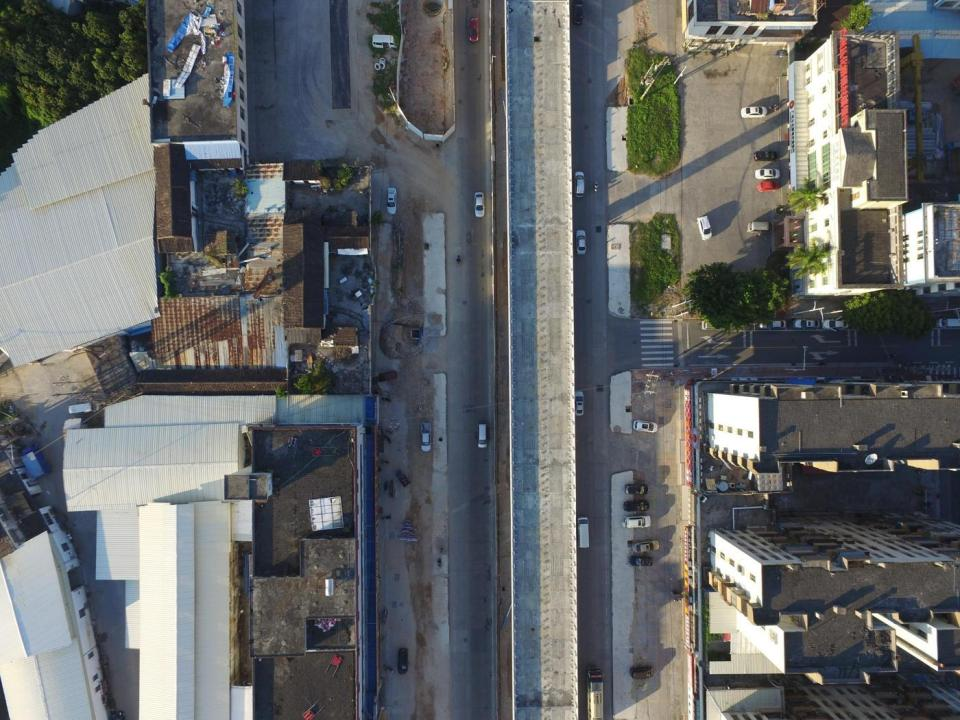car: (632, 418, 659, 435), (696, 214, 712, 241), (740, 104, 767, 119), (632, 538, 659, 553), (396, 647, 410, 675), (822, 317, 850, 331), (753, 166, 780, 180), (623, 514, 650, 528), (468, 14, 480, 44), (793, 317, 820, 330), (628, 554, 653, 568), (623, 500, 649, 513), (630, 666, 656, 679), (386, 188, 398, 216), (474, 191, 486, 218), (623, 483, 650, 495), (575, 230, 587, 255), (573, 390, 584, 417), (753, 150, 777, 162), (759, 319, 785, 330), (572, 0, 583, 25), (757, 180, 778, 193)
truck: (586, 664, 605, 720), (420, 420, 432, 452)
van: (576, 514, 590, 549), (370, 33, 396, 51), (935, 316, 960, 331), (747, 220, 774, 233), (476, 420, 488, 449), (572, 171, 585, 197)
